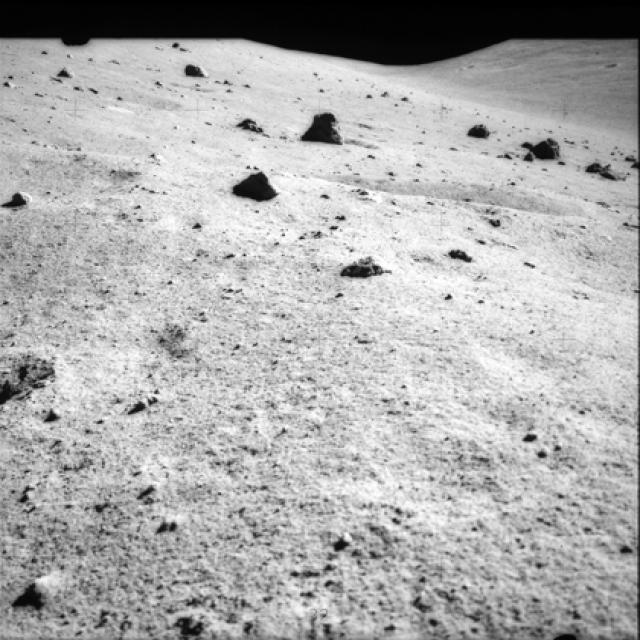crater: (312, 164, 590, 217), (7, 148, 137, 194), (86, 79, 177, 118)
rock: (20, 564, 76, 623), (224, 158, 278, 211), (336, 243, 393, 280), (300, 101, 344, 148), (524, 128, 565, 163), (173, 54, 216, 78), (5, 181, 37, 210), (462, 118, 496, 142)
